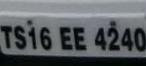0: (133, 26, 146, 54)
1: (28, 24, 38, 50)
2: (107, 24, 121, 52)
4: (92, 25, 108, 52), (121, 25, 134, 53)
6: (39, 24, 53, 52)
E: (72, 22, 88, 53), (59, 23, 73, 52)
S: (12, 23, 27, 50)
T: (0, 22, 13, 50)
